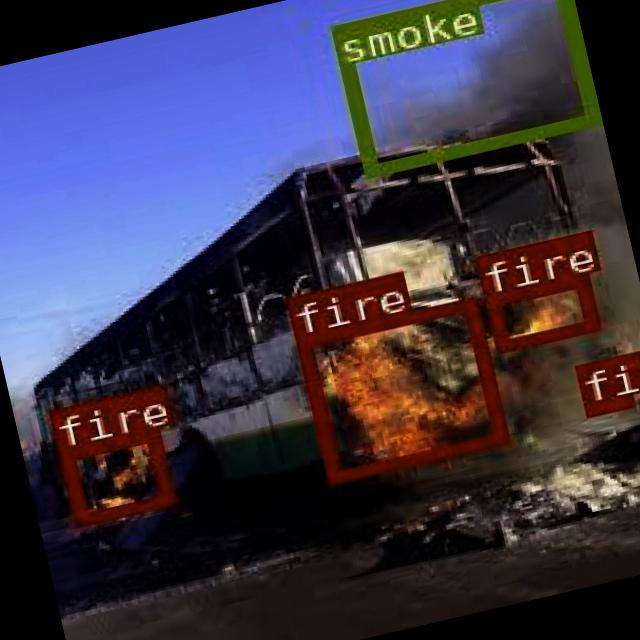fire: (293, 296, 505, 483), (54, 427, 170, 524), (484, 272, 596, 351), (572, 353, 630, 415)
smoke: (328, 0, 595, 174)
